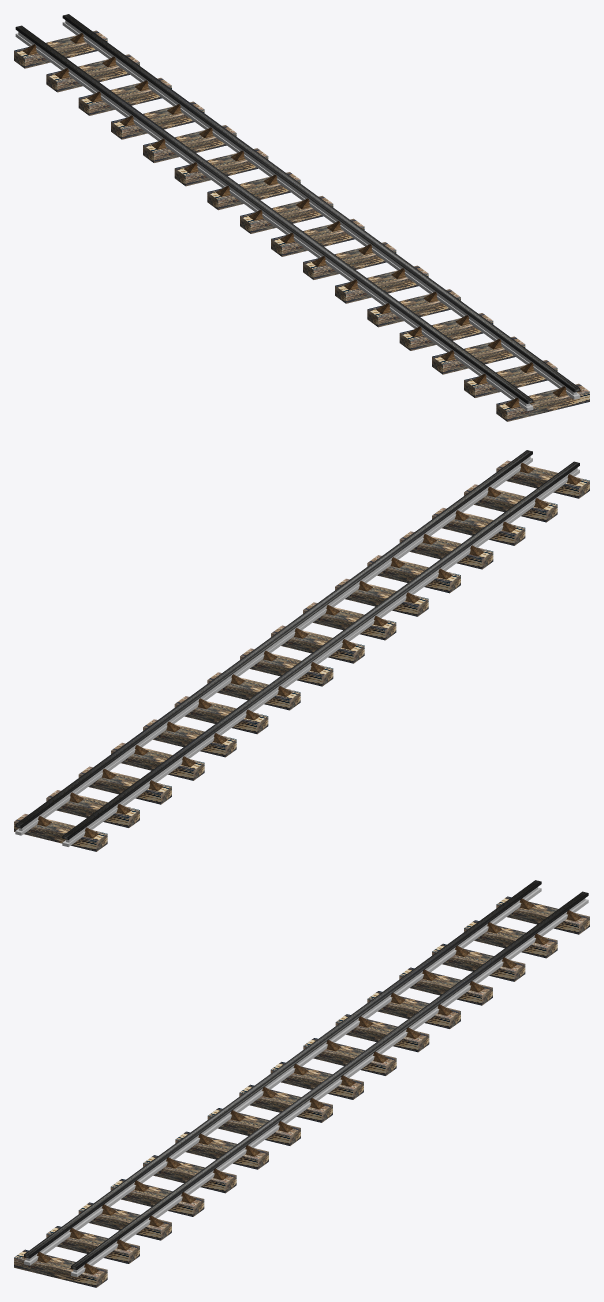
Rendered from Vias.obj.
3 renders of one model, top to bottom at view 1: azimuth 30°, elevation 25°; view 2: azimuth 150°, elevation 25°; view 3: azimuth 330°, elevation 25°, orthographic.
Visible parts, largest first — view 1: default, Cubo_1_1, Cubo_2, Cubo_1, Cubo_3, Cubo, Cubo_4; view 2: default, Cubo_2, Cubo_1_1, Cubo_1, Cubo_3, Cubo, Cubo_4; view 3: default, Cubo_1_1, Cubo_2, Cubo_3, Cubo_1, Cubo, Cubo_4.
Boxes of the visible parts, x1,y1,x2,y2 form: default: (14,30,589,421); Cubo_1_1: (15,25,533,403); Cubo_2: (62,14,580,392); Cubo_1: (15,33,533,411); Cubo_3: (62,22,580,399); Cubo: (18,32,529,406); Cubo_4: (65,20,576,395); default: (14,460,589,851); Cubo_2: (15,450,532,828); Cubo_1_1: (62,461,579,839); Cubo_1: (62,469,579,846); Cubo_3: (15,458,532,835); Cubo: (66,467,577,842); Cubo_4: (18,456,530,830); default: (14,896,589,1287); Cubo_1_1: (24,880,541,1258); Cubo_2: (71,891,588,1269); Cubo_3: (71,899,588,1276); Cubo_1: (24,887,541,1265); Cubo: (26,887,537,1260); Cubo_4: (73,898,585,1272).
Size of the model in its own units: 2.97 by 0.7044 by 31.84.
